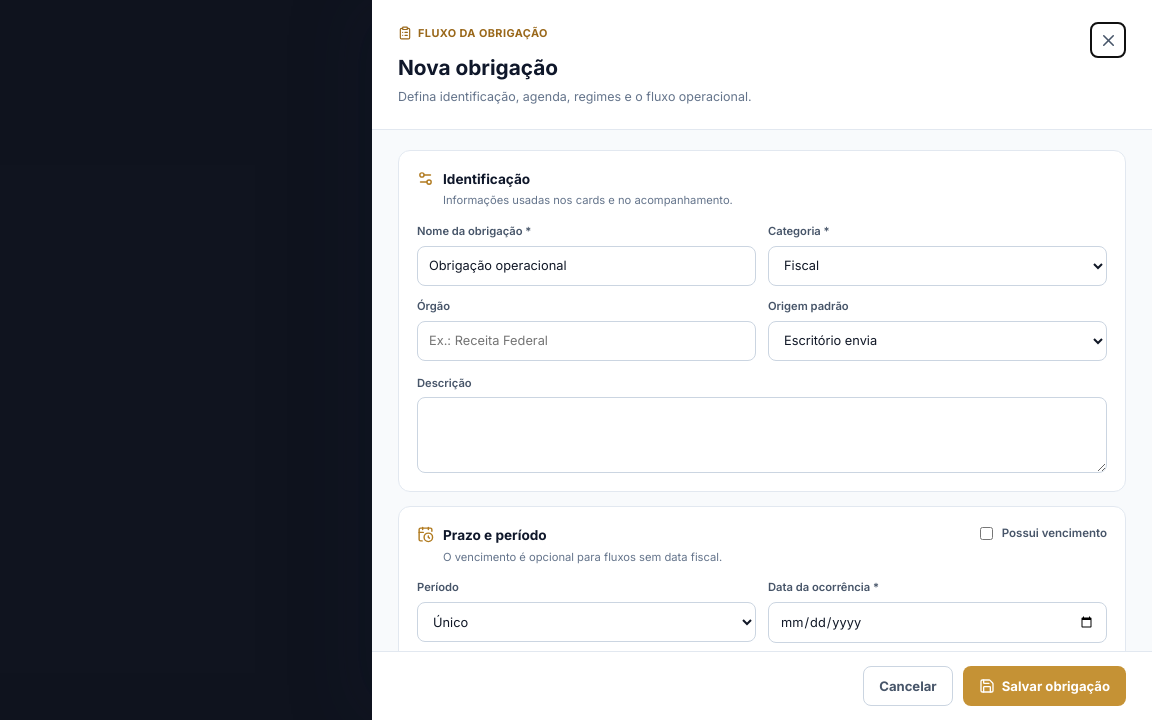
Test case: ObrigacaoEditorDrawer agenda operacional › exige a agenda de {"periodicidade":"unica","dataVencimento":""} mesmo sem prazo fiscal
Step 1. Click the button "Salvar obrigação" → (1044, 686), box [963,666,1126,706]
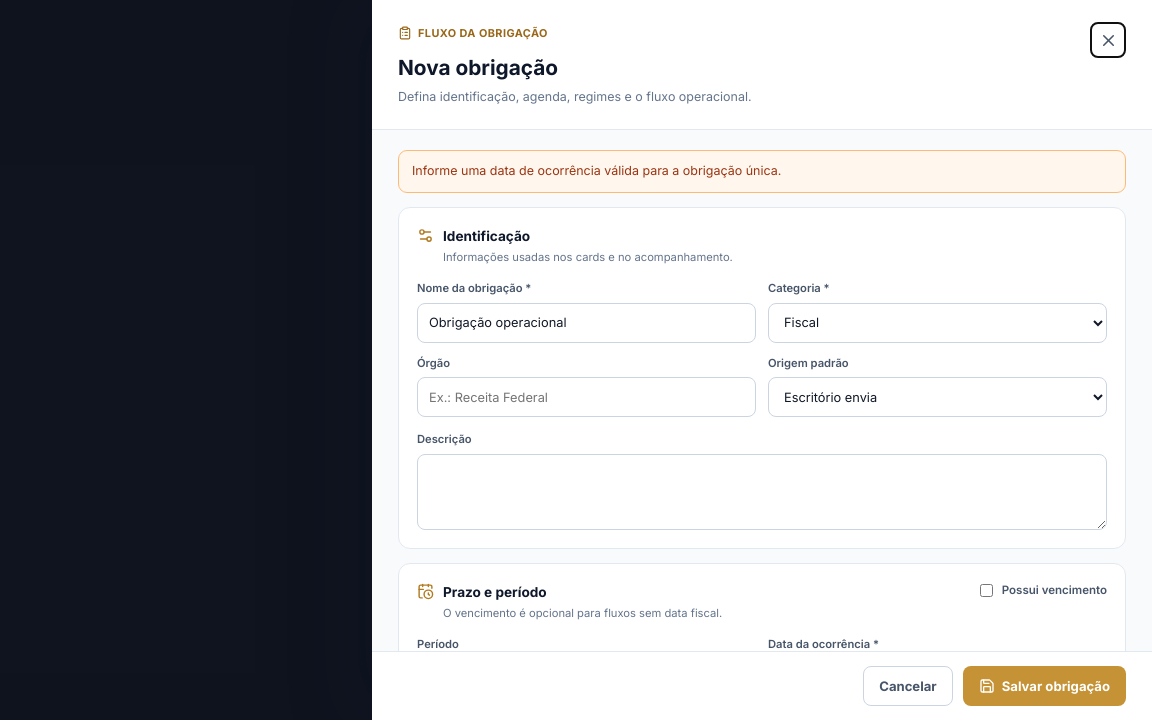
Check: the message reads "Informe uma data de ocorrência válida para a obrigação única.", box [412,163,781,178]
